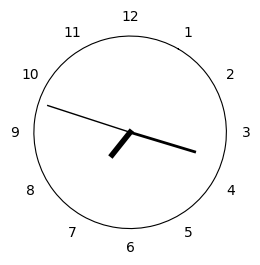12: (122, 9, 139, 23)
circle: (34, 36, 227, 228)
hours: (109, 129, 134, 158)
minutes: (133, 132, 196, 153)
seconds: (47, 105, 127, 131)
